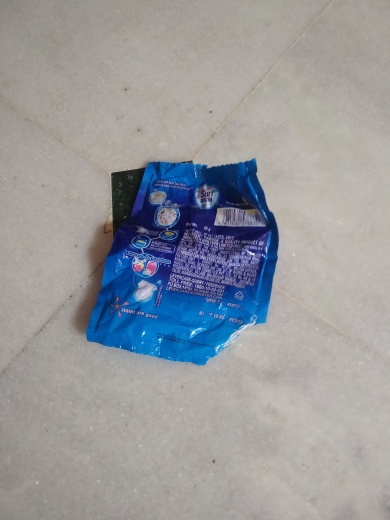surf: (82, 147, 291, 376)
